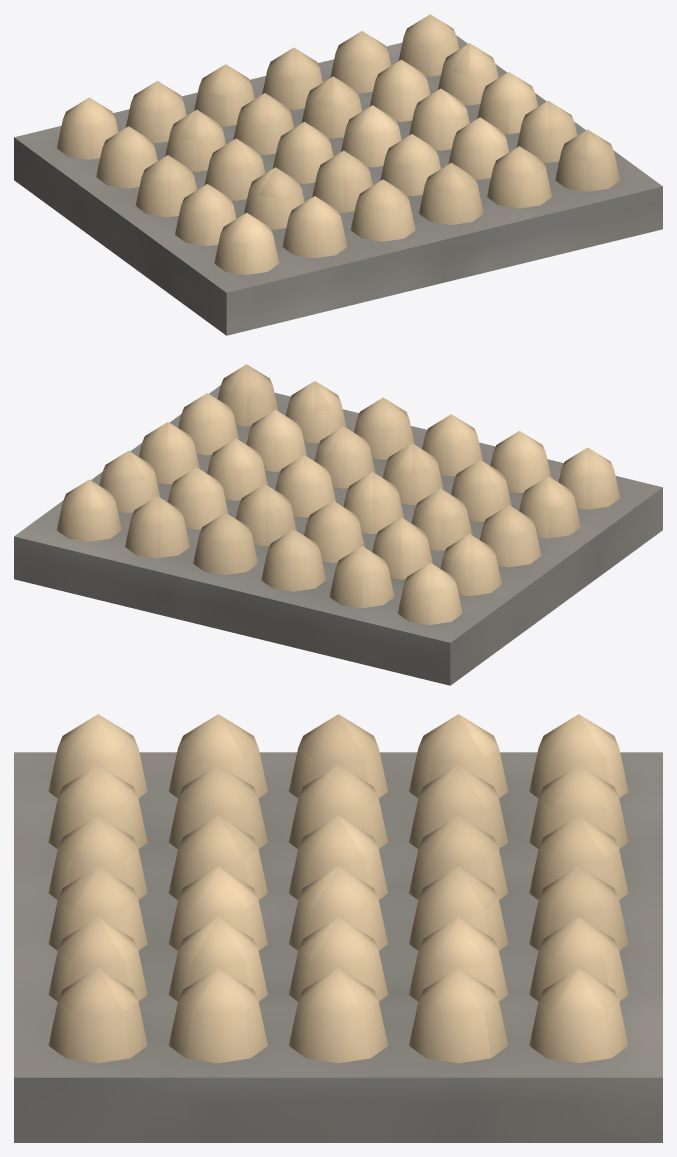
File: egg_tray.glb
3 views of the same model, one above another, from view 1: azimuth 30°, elevation 25°; view 2: azimuth 150°, elevation 25°; view 3: azimuth 270°, elevation 25° (orthographic). The views are drawn at different scales.
Visible parts, largest first — view 1: egg_tray; view 2: egg_tray; view 3: egg_tray.
Part boxes in pixels (x1,y1,x2,y2): egg_tray: [14, 14, 662, 335]; egg_tray: [14, 364, 662, 685]; egg_tray: [14, 714, 662, 1142].
Bounding box in the file's own units: 0.32 × 0.064 × 0.27.
Materials: 2 (2 with a texture image).
